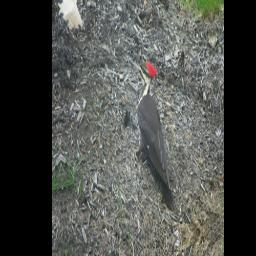Woodpecker: (126, 46, 178, 222)
